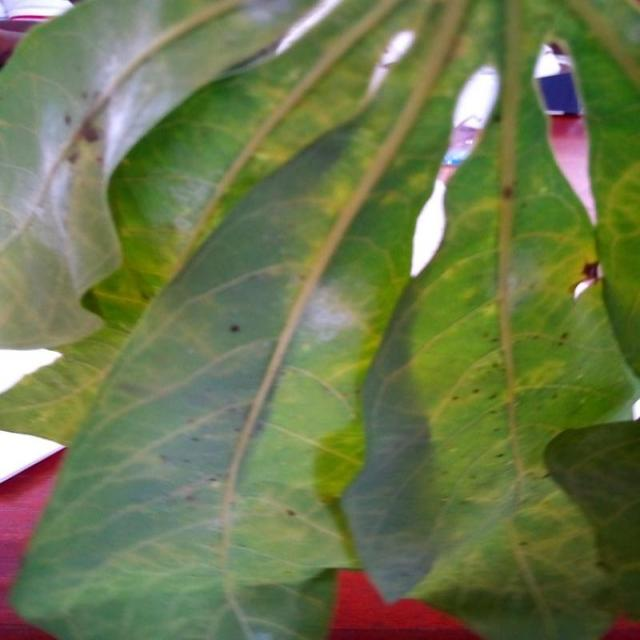cassava leaf: (1, 0, 638, 637)
